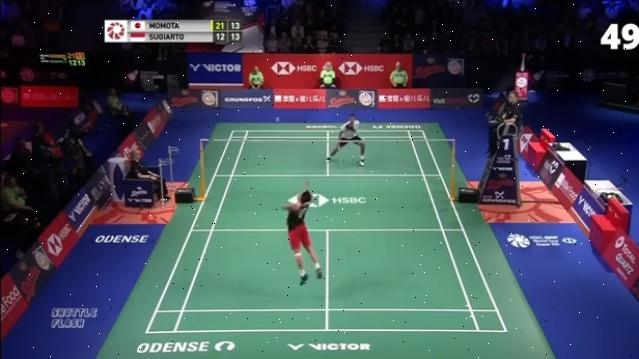Shuttlecock: (274, 115, 282, 122)
